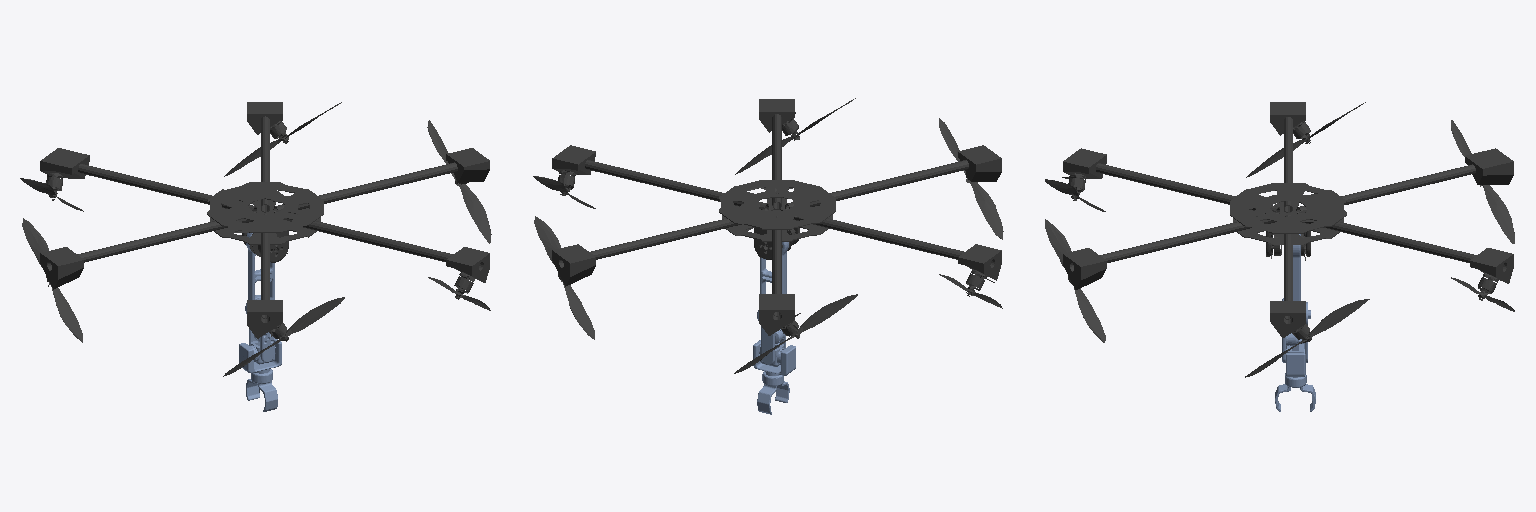
robot.urdf — hextilt_flying_arm_5:
<?xml version="1.0" encoding="utf-8"?>
<robot name="hextilt_flying_arm_5">
  <material name="light_blue">
      <color rgba="0.5569 0.6313 0.7479 1"/>
  </material>
  <material name="grey">
      <color rgba="0.3 0.3 0.3 1"/>
  </material>
  <link name="hextilt__base_link">
    <inertial>
      <origin xyz="-0.0054412 0.003948 -0.0087555" />
      <mass value="1.0194" />
      <inertia ixx="0.0015891"
        ixy="-3.0072E-06"
        ixz="-4.0534E-07"
        iyy="0.0015947"
        iyz="2.85E-06"
        izz="0.0029281" />
    </inertial>
    <visual>
      <origin xyz="0 0 0" rpy="0 0 0" />
      <geometry>
        <mesh filename="package://example-robot-data/robots/hextilt_description/meshes/hextilt.dae" />
      </geometry>
      <material name="grey"/>
    </visual>
    <collision>
      <origin xyz="0 0 0" rpy="0 0 0" />
      <geometry>
        <mesh filename="package://example-robot-data/robots/hextilt_description/meshes/hextilt.dae" />
      </geometry>
    </collision>
  </link>

  <link name="flying_arm_5__base_link">
    <inertial>
      <origin xyz="5.4471E-05 0.00055544 0.0045971" rpy="0 0 0" />
      <mass value="0.27973" />
      <inertia ixx="0.00010284" ixy="5.704E-10" ixz="7.6592E-09" iyy="7.9509E-05" iyz="5.7105E-10" izz="9.2151E-05" />
    </inertial>
    <visual>
      <origin xyz="0 0 0" rpy="0 0 0" />
      <geometry>
        <mesh filename="package://example-robot-data/robots/hextilt_description/meshes/base_link.dae" />
      </geometry>
      <material name="grey"/>
    </visual>
    <collision>
      <origin xyz="0 0 0" rpy="0 0 0" />
      <geometry>
        <mesh filename="package://example-robot-data/robots/hextilt_description/meshes/base_link.dae" />
      </geometry>
    </collision>
  </link>

  <joint name="flying_arm_5__j_base_link" type="fixed">
    <origin xyz="0.0 0 -0.0516" rpy="0 0 0" />
    <parent link="hextilt__base_link" />
    <child link="flying_arm_5__base_link" />
    <axis xyz="0 0 0" />
  </joint>

  <link name="flying_arm_5__link_1">
    <inertial>
      <origin xyz="0.097289 5.2467E-05 -0.012147" rpy="0 0 0" />
      <mass value="0.12284" />
      <inertia ixx="2.3846E-05" ixy="-5.0883E-13" ixz="3.5276E-06" iyy="0.00021635" iyz="-1.2916E-12" izz="0.00023624" />
    </inertial>
    <visual>
      <origin xyz="0 0 0" rpy="0 0 0" />
      <geometry>
        <mesh filename="package://example-robot-data/robots/hextilt_description/meshes/link_1.dae" />
      </geometry>
      <material name="light_blue"/>
    </visual>
    <collision>
      <origin xyz="0 0 0" rpy="0 0 0" />
      <geometry>
        <mesh filename="package://example-robot-data/robots/hextilt_description/meshes/link_1.dae" />
      </geometry>
    </collision>
  </link>

  <joint name="flying_arm_5__j_base_link_link_1" type="revolute">
    <origin xyz="0 0 0" rpy="1.5708 1.5708 0" />
    <parent link="flying_arm_5__base_link" />
    <child link="flying_arm_5__link_1" />
    <axis xyz="0 0 1" />
    <limit effort="1" lower="-1.6707963267948966" upper="1.6707963267948966" velocity="10000" />
    <dynamics damping="0.1" friction="0.1" />
  </joint>

  <link name="flying_arm_5__link_2">
    <inertial>
      <origin xyz="0.043238 2.4308E-05 -0.0087926" rpy="0 0 0" />
      <mass value="0.11474" />
      <inertia ixx="1.174E-05" ixy="1.3294E-09" ixz="-2.0499E-06" iyy="4.7747E-05" iyz="-1.6102E-08" izz="5.2344E-05" />
    </inertial>
    <visual>
      <origin xyz="0 0 0" rpy="0 0 0" />
      <geometry>
        <mesh filename="package://example-robot-data/robots/hextilt_description/meshes/link_2.dae" />
      </geometry>
      <material name="light_blue"/>
    </visual>
    <collision>
      <origin xyz="0 0 0" rpy="0 0 0" />
      <geometry>
        <mesh filename="package://example-robot-data/robots/hextilt_description/meshes/link_2.dae" />
      </geometry>
    </collision>
  </link>

  <joint name="flying_arm_5__j_link_1_link_2" type="revolute">
    <origin xyz="0.132 0 0" rpy="0 0 0" />
    <parent link="flying_arm_5__link_1" />
    <child link="flying_arm_5__link_2" />
    <axis xyz="0 0 1" />
    <limit effort="1" lower="-1.6707963267948966" upper="1.6707963267948966" velocity="10000" />
    <dynamics damping="0.1" friction="0.1" />
  </joint>

  <link name="flying_arm_5__link_3">
    <inertial>
      <origin xyz="0.00020827 -0.0031223 -0.011966" rpy="0 0 0" />
      <mass value="0.068772" />
      <inertia ixx="6.8293E-06" ixy="4.2309E-08" ixz="1.548E-09" iyy="7.2432E-06" iyz="1.6138E-08" izz="7.1043E-06" />
    </inertial>
    <visual>
      <origin xyz="0 0 0" rpy="0 0 0" />
      <geometry>
        <mesh filename="package://example-robot-data/robots/hextilt_description/meshes/link_3.dae" />
      </geometry>
      <material name="light_blue"/>
    </visual>
    <collision>
      <origin xyz="0 0 0" rpy="0 0 0" />
      <geometry>
        <mesh filename="package://example-robot-data/robots/hextilt_description/meshes/link_3.dae" />
      </geometry>
    </collision>
  </link>

  <joint name="flying_arm_5__j_link_2_link_3" type="revolute">
    <origin xyz="0.075 0 0" rpy="0 0 0" />
    <parent link="flying_arm_5__link_2" />
    <child link="flying_arm_5__link_3" />
    <axis xyz="0 0 1" />
    <limit effort="0.3" lower="-1.6707963267948966" upper="1.6707963267948966" velocity="10000"/>
    <dynamics damping="0.1" friction="0.1"/>
  </joint>

  <link name="flying_arm_5__link_4">
    <inertial>
      <origin xyz="0.026125 2.9724E-09 0.0016875" rpy="0 0 0" />
      <mass value="0.05914" />
      <inertia ixx="2.2712E-05" ixy="2.3256E-12" ixz="5.2509E-09" iyy="2.472E-05" iyz="3.3225E-09" izz="1.0444E-05" />
    </inertial>
    <visual>
      <origin xyz="0 0 0" rpy="0 0 0" />
      <geometry>
        <mesh filename="package://example-robot-data/robots/hextilt_description/meshes/link_4.dae" />
      </geometry>
      <material name="light_blue"/>
    </visual>
    <collision>
      <origin xyz="0 0 0" rpy="0 0 0" />
      <geometry>
        <mesh filename="package://example-robot-data/robots/hextilt_description/meshes/link_4.dae" />
      </geometry>
    </collision>
  </link>

  <joint name="flying_arm_5__j_link_3_link_4" type="revolute">
    <origin xyz="0 0 -0.011925" rpy="1.5708 0 0" />
    <parent link="flying_arm_5__link_3" />
    <child link="flying_arm_5__link_4" />
    <axis xyz="0 0 1" />
    <limit effort="0.3" lower="-1.6707963267948966" upper="1.6707963267948966" velocity="10000"/>
    <dynamics damping="0.1" friction="0.1"/>
  </joint>

  <link name="flying_arm_5__link_5">
    <inertial>
      <origin xyz="1.7347E-18 -1.0246E-17 0.025817" rpy="0 0 0" />
      <mass value="0.021791" />
      <inertia ixx="7.9107E-06" ixy="1.6653E-13" ixz="2.9904E-21" iyy="1.5446E-05" iyz="-1.1963E-21" izz="1.0818E-05" />
    </inertial>
    <visual>
      <origin xyz="0 0 0" rpy="0 0 0" />
      <geometry>
        <mesh filename="package://example-robot-data/robots/hextilt_description/meshes/link_5.dae" />
      </geometry>
      <material name="light_blue"/>
    </visual>
    <collision>
      <origin xyz="0 0 0" rpy="0 0 0" />
      <geometry>
        <mesh filename="package://example-robot-data/robots/hextilt_description/meshes/link_5.dae" />
      </geometry>
    </collision>
  </link>

  <joint name="flying_arm_5__j_link_4_link_5" type="revolute">
    <origin xyz="0.034 0 -0.00025" rpy="1.5708 0 1.5708" />
    <parent link="flying_arm_5__link_4" />
    <child link="flying_arm_5__link_5" />
    <axis xyz="0 0 1" />
    <limit effort="0.3" lower="-1.6707963267948966" upper="1.6707963267948966" velocity="10000"/>
    <dynamics damping="0.1" friction="0.1"/>
  </joint>

  <link name="flying_arm_5__gripper">
    <inertial>
      <origin rpy="0 0 0" xyz="0.0 0.0 0.0"/>
      <mass value="0.0"/>
      <inertia ixx="0.0" ixy="0.0" ixz="0.0" iyy="0.0" iyz="0.0" izz="0.0"/>
    </inertial>
  </link>

  <joint name="flying_arm_5__j_link_5_gripper" type="fixed">
    <origin rpy="0 0 0" xyz="0.00 0 0.06"/>
    <parent link="flying_arm_5__link_5"/>
    <child link="flying_arm_5__gripper"/>
    <axis xyz="0 0 1"/>
  </joint>
</robot>

--- What the picture shows (computed from the rendered views, not written in the file) ---
Views: 3 orthographic renders of the robot side by side, from view 1: azimuth 30°, elevation 25°; view 2: azimuth 150°, elevation 25°; view 3: azimuth 270°, elevation 25°.
Robot: hextilt_flying_arm_5 — 8 links, 7 joints (5 revolute, 2 fixed); root link hextilt__base_link; default pose: every joint at zero.
Links seen in each view (by area): view 1: hextilt__base_link, flying_arm_5__link_5, flying_arm_5__link_4, flying_arm_5__link_1; view 2: hextilt__base_link, flying_arm_5__link_5, flying_arm_5__link_4, flying_arm_5__link_1, flying_arm_5__link_2; view 3: hextilt__base_link, flying_arm_5__link_5.
Link boxes in pixels (x1,y1,x2,y2): hextilt__base_link: (20, 102, 491, 376); flying_arm_5__link_5: (246, 369, 277, 411); flying_arm_5__link_4: (239, 338, 281, 373); flying_arm_5__link_1: (246, 233, 274, 299); hextilt__base_link: (533, 98, 1003, 373); flying_arm_5__link_5: (757, 371, 789, 414); flying_arm_5__link_4: (753, 340, 795, 375); flying_arm_5__link_1: (760, 242, 788, 293); flying_arm_5__link_2: (757, 310, 785, 364); hextilt__base_link: (1045, 102, 1514, 377); flying_arm_5__link_5: (1275, 373, 1315, 411).
Size in the robot's own frame: 0.8339 by 0.782 by 0.3846 metres.
Meshes: 7 distinct files referenced, 7 mesh visuals loaded (7 Collada DAE).